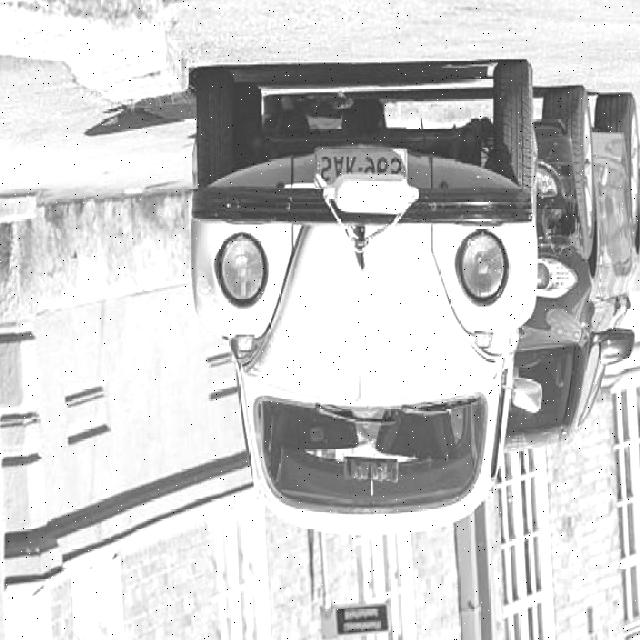car: (190, 70, 538, 534), (448, 104, 640, 477)
